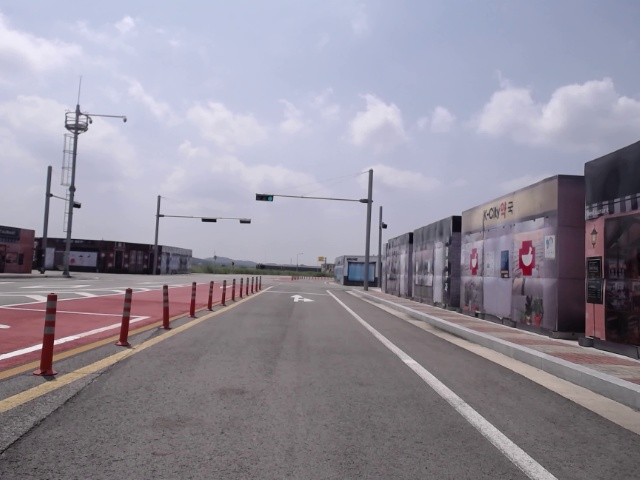green_3: (255, 193, 274, 201)
